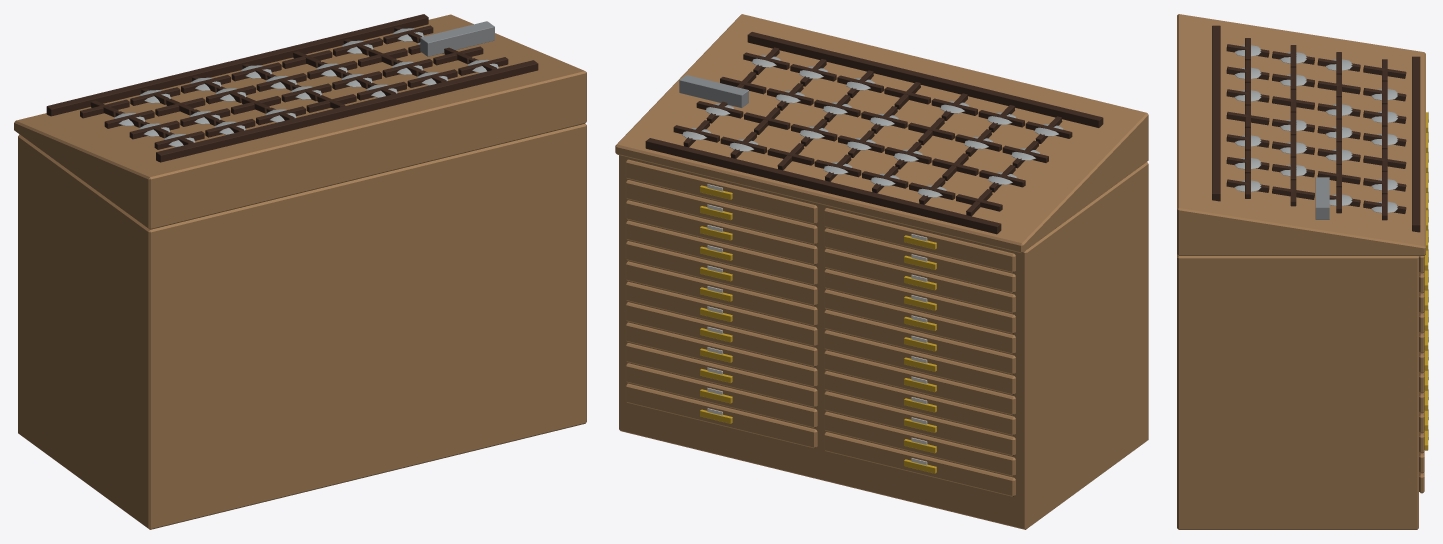
Rendered from prop_sh_type_case.glb.
The picture shows the model from 3 angles, left to right: view 1: azimuth 30°, elevation 25°; view 2: azimuth 150°, elevation 25°; view 3: azimuth 270°, elevation 25°; orthographic projection. The views are drawn at different scales.
Parts seen in each view (by area): view 1: Body; view 2: Body; view 3: Body.
Boxes of the visible parts, left/top/right/bottom form: Body: left=14, top=14, right=586, bottom=529; Body: left=615, top=14, right=1148, bottom=529; Body: left=1177, top=14, right=1428, bottom=529.
Size of what is drawn, in the model's own units: 1.3 by 1 by 0.708.
